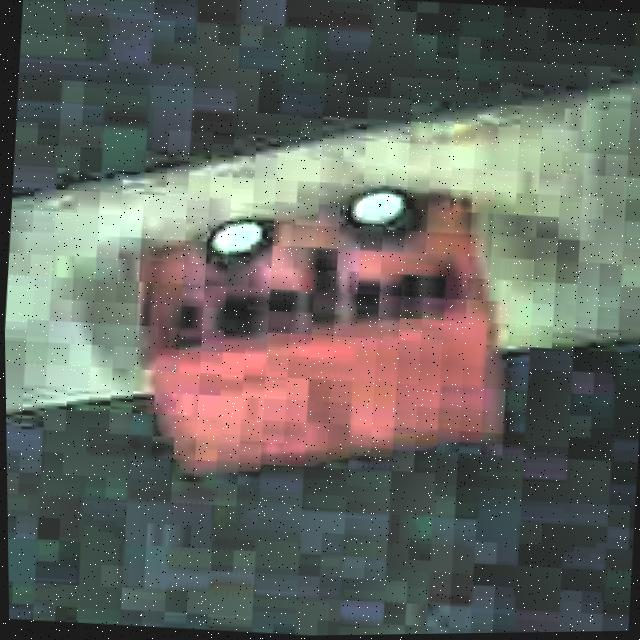bus: (119, 161, 519, 500)
